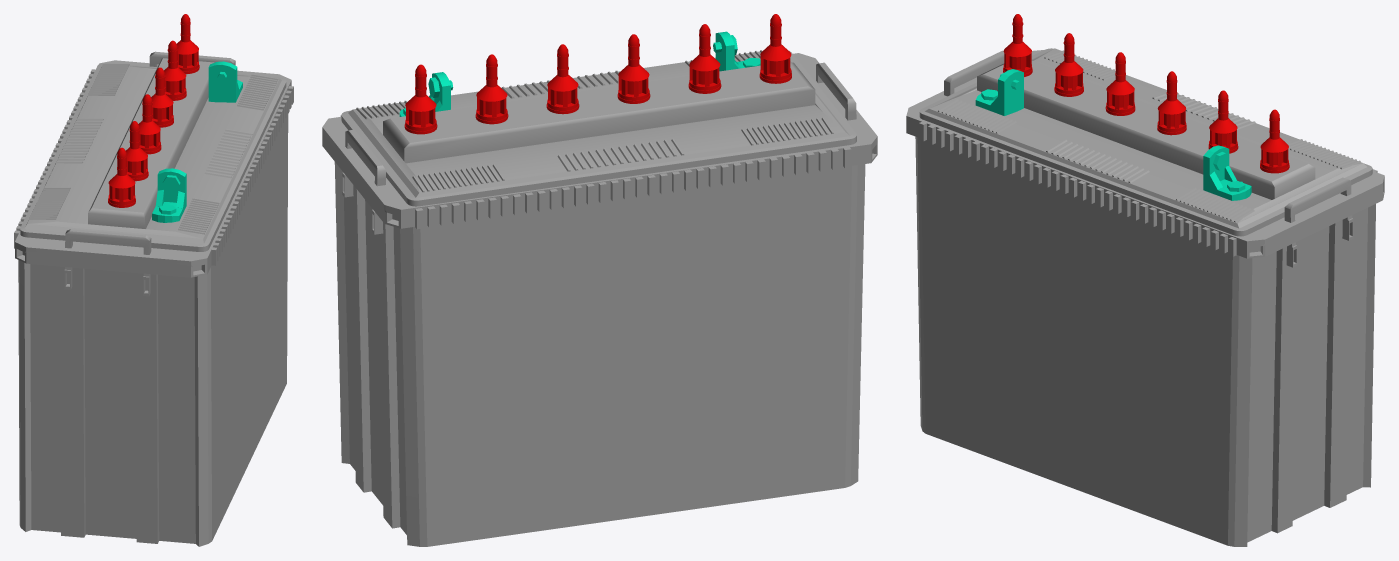
Rendered from Battery.fbx.
3 renders of one model, left to right at view 1: azimuth 30°, elevation 25°; view 2: azimuth 150°, elevation 25°; view 3: azimuth 270°, elevation 25°, orthographic. The views are drawn at different scales.
Visible parts, largest first — view 1: battery:pasted__polySurface178grouppolySurface97; view 2: battery:pasted__polySurface178grouppolySurface97; view 3: battery:pasted__polySurface178grouppolySurface97.
Boxes of the visible parts, x1,y1,x2,y2 form: battery:pasted__polySurface178grouppolySurface97: (14,14,293,546); battery:pasted__polySurface178grouppolySurface97: (322,14,877,546); battery:pasted__polySurface178grouppolySurface97: (906,14,1384,546).
Size of the model in its own units: 3.5 by 3.35 by 3.67.
